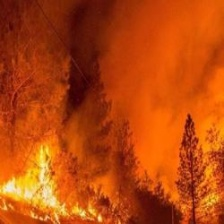fire: (1, 125, 130, 224)
